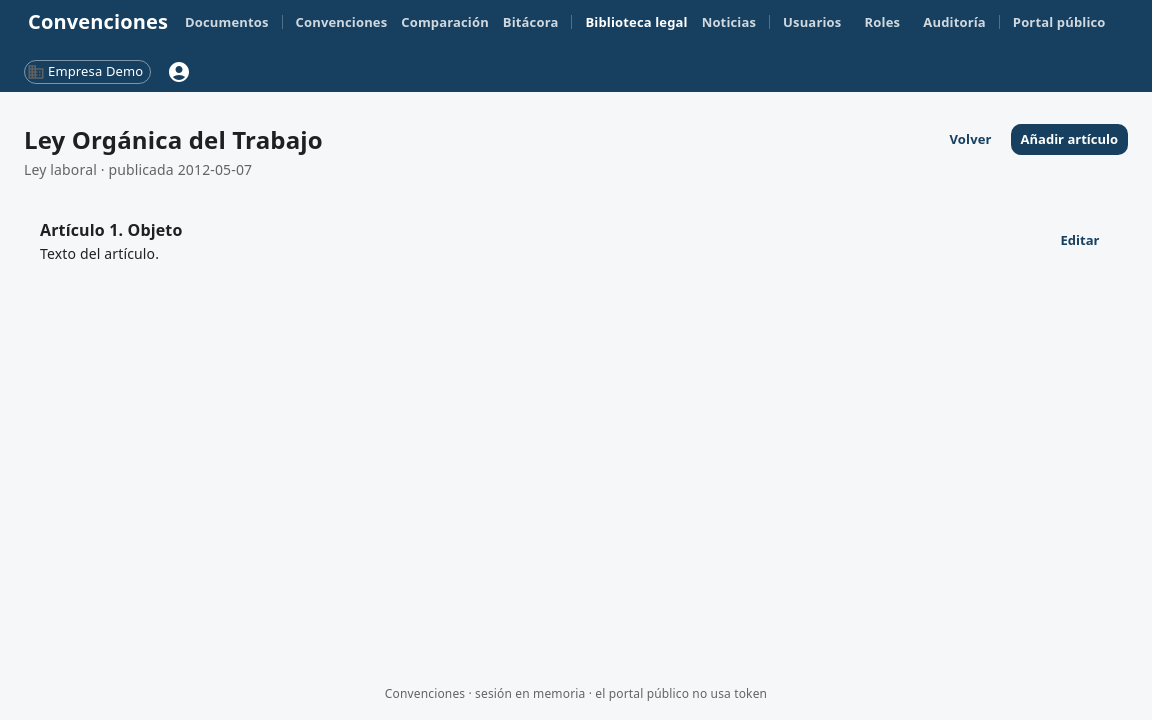
Scenario: StatutePage › offers real heading ids and labels the excluded heading
Click the button with aria-label "Editar artículo 1".
click(1080, 240)  # box [1048, 225, 1112, 256]
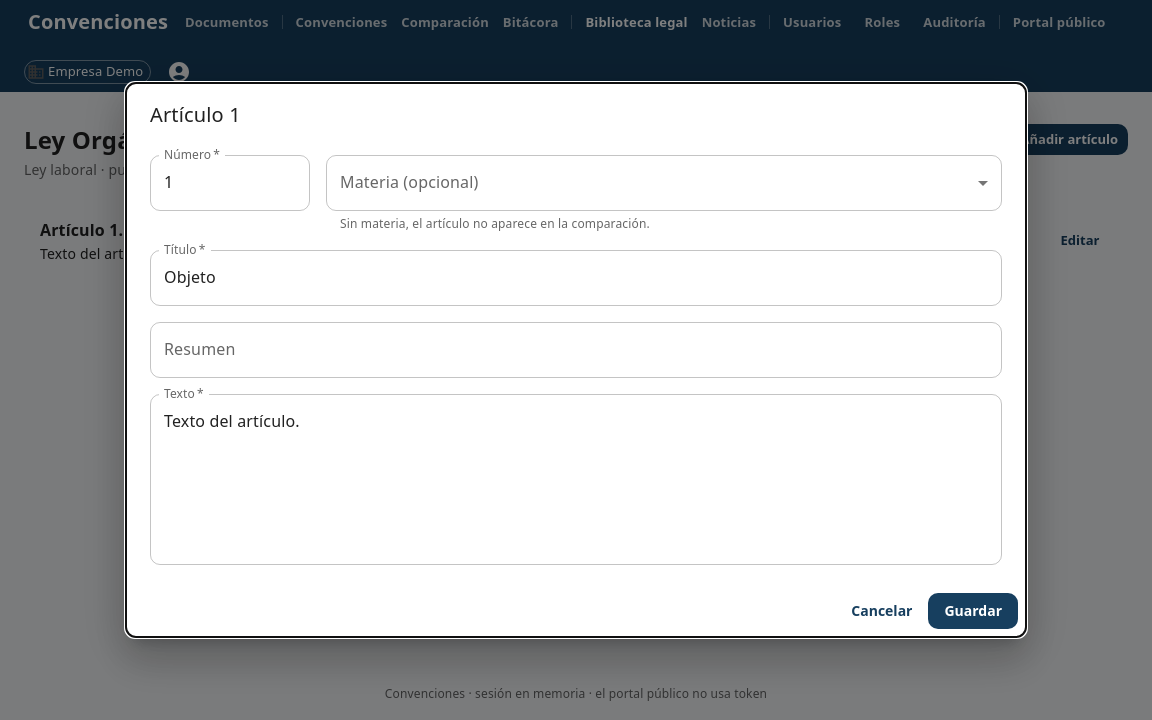
Click the dropdown named "materia (opcional)".
click(664, 183)  # box [326, 155, 1002, 211]
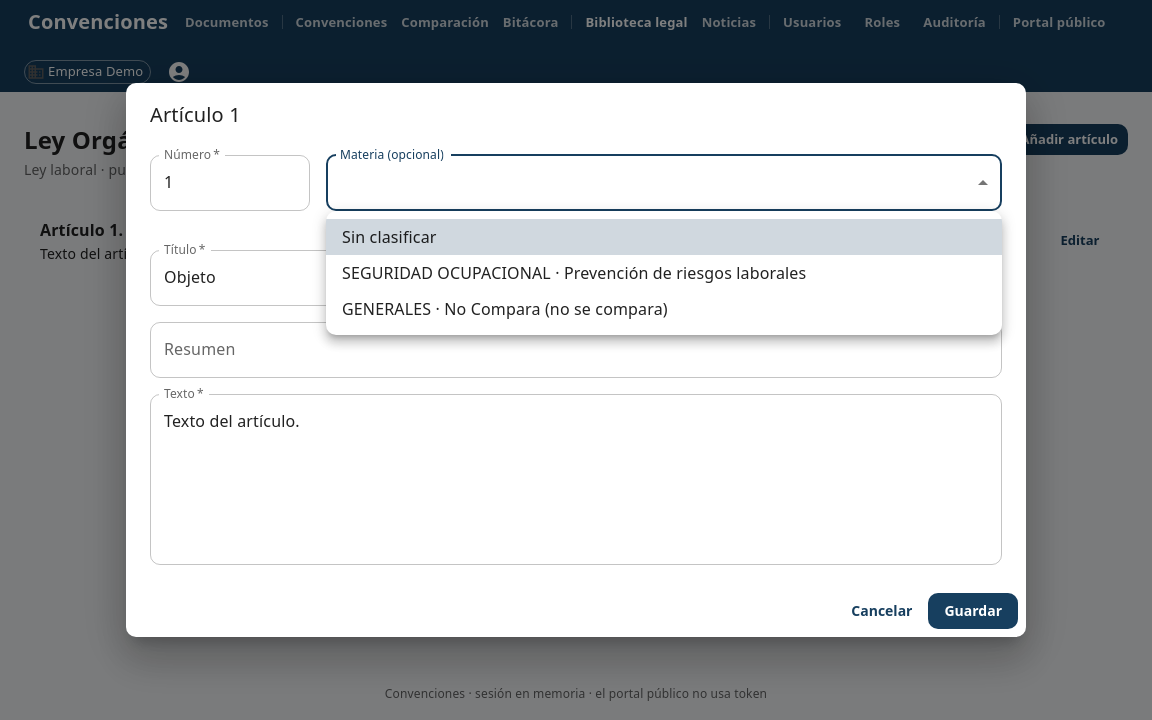
Check: the option "SEGURIDAD OCUPACIONAL · Prevención de riesgos laborales" is shown, box [342, 262, 806, 284]
Check: the option "GENERALES · No Compara (no se compara)" is shown, box [342, 298, 668, 320]
